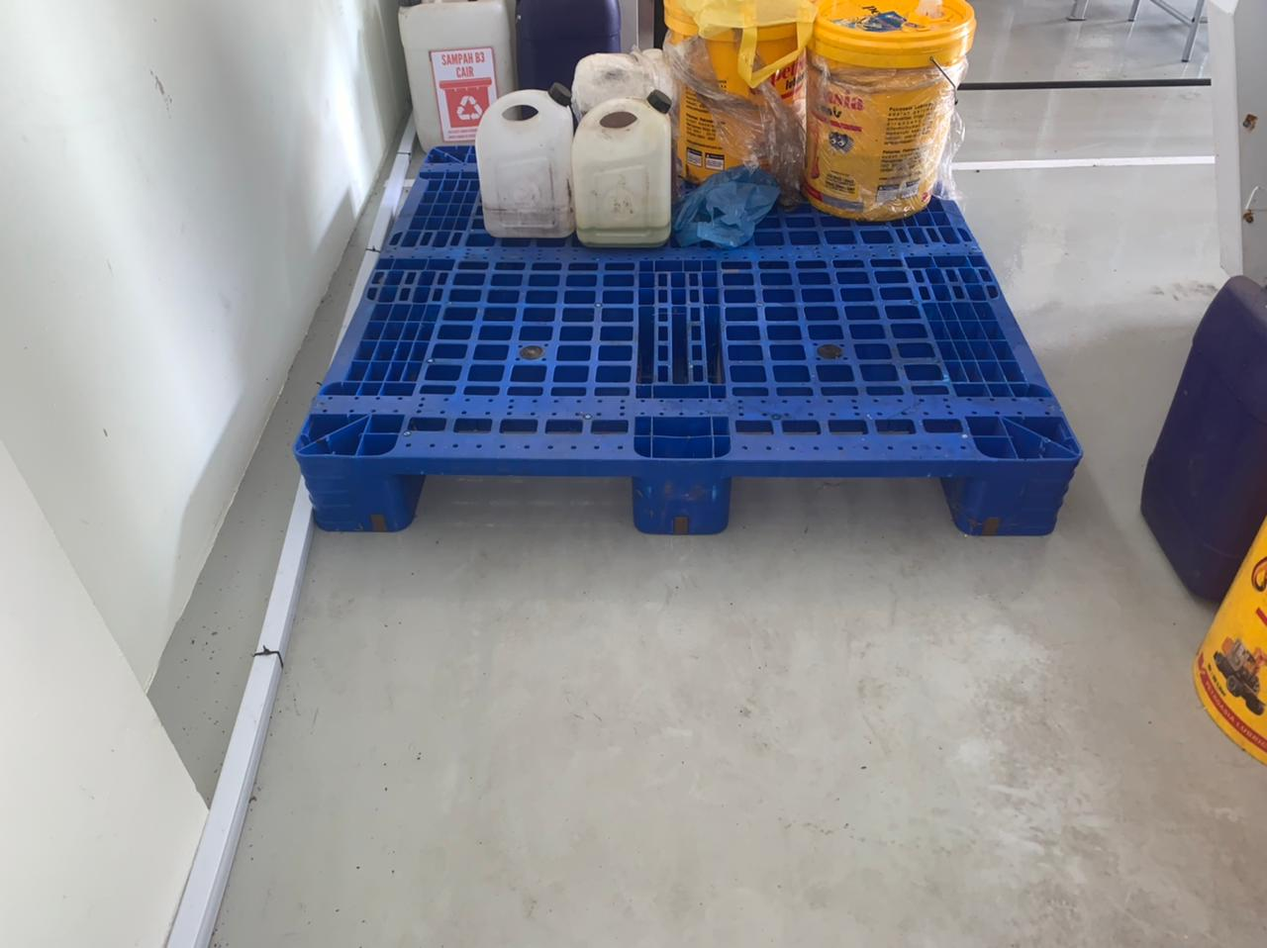block: (296, 450, 413, 529), (969, 455, 1084, 532), (632, 459, 735, 534)
front: (298, 451, 1084, 533)
hole pallet: (729, 473, 971, 535), (406, 476, 634, 530)
